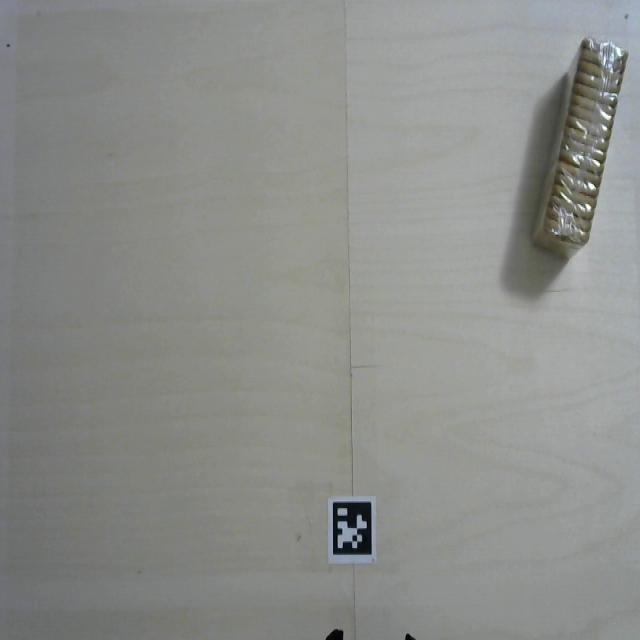biscuit: (518, 37, 632, 284)
